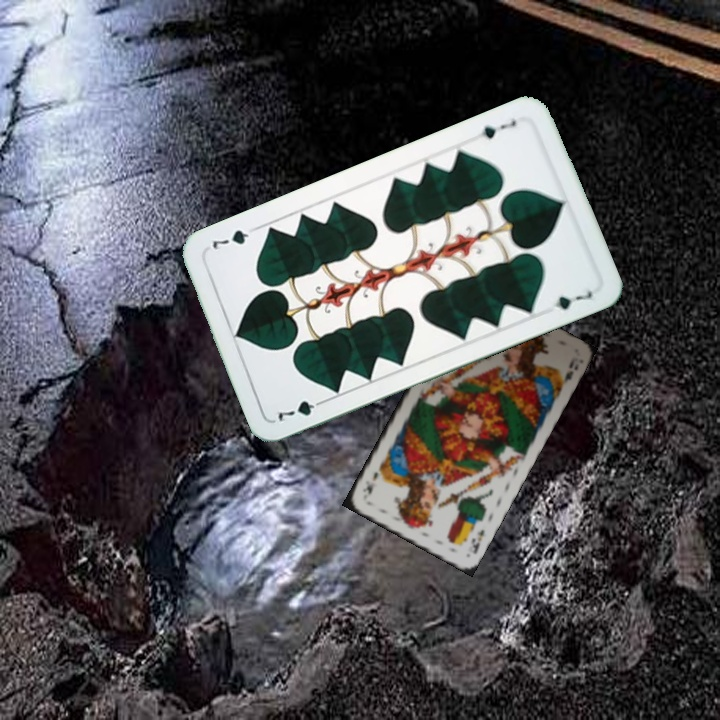EK: (467, 525, 487, 557)
G7: (274, 395, 330, 424), (470, 116, 519, 142)
